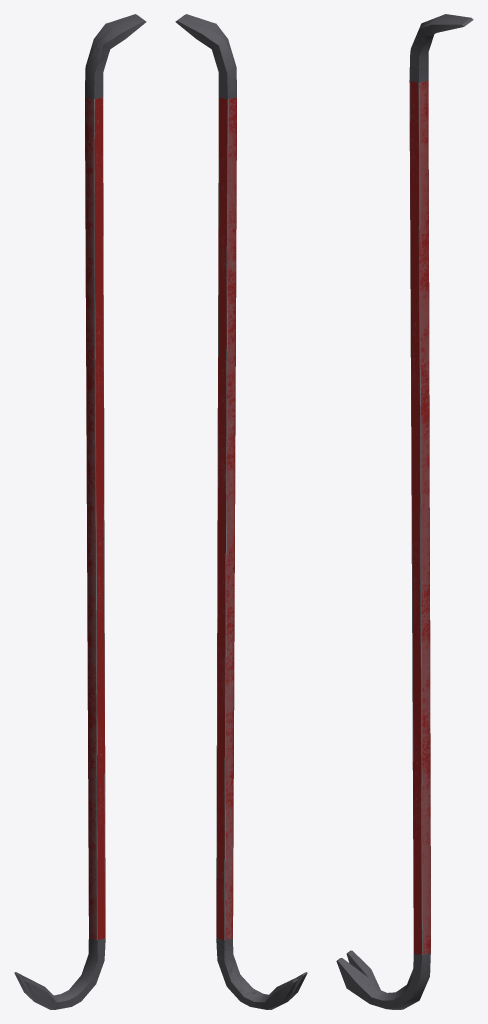
File: qiaogun.FBX
3 views of the same model, side by side, from view 1: azimuth 30°, elevation 25°; view 2: azimuth 150°, elevation 25°; view 3: azimuth 330°, elevation 25° (orthographic). The views are drawn at different scales.
Visible parts, largest first — view 1: Qiaogun; view 2: Qiaogun; view 3: Qiaogun.
Part boxes in pixels (x1,y1,x2,y2): Qiaogun: (14, 14, 146, 1009); Qiaogun: (175, 14, 307, 1009); Qiaogun: (336, 14, 473, 1009).
Size of the model in its own units: 19.47 by 149 by 4.41.
Materials: 1 (1 with a texture image).
